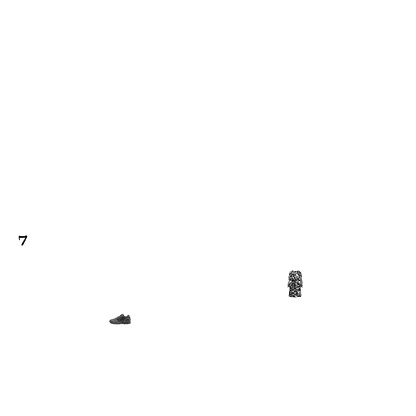7: (16, 232, 30, 246)
Dress: (281, 270, 309, 298)
Sneaker: (109, 308, 131, 330)
